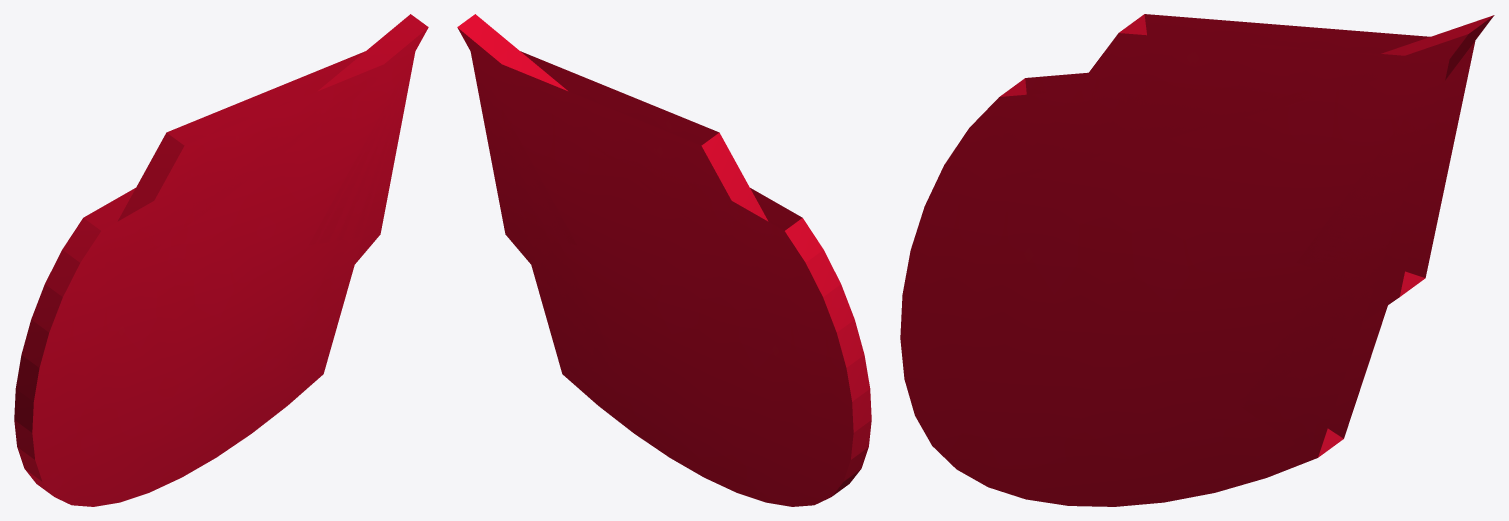
Rendered from critical.fbx.
3 renders of one model, left to right at view 1: azimuth 30°, elevation 25°; view 2: azimuth 150°, elevation 25°; view 3: azimuth 330°, elevation 25°, orthographic. The views are drawn at different scales.
Parts seen in each view (by area): view 1: critical; view 2: critical; view 3: critical.
Boxes of the visible parts, bbox=[...] form: critical: bbox=[14, 14, 428, 506]; critical: bbox=[457, 14, 871, 506]; critical: bbox=[900, 14, 1494, 506].
Size of the model in its own units: 173 by 167 by 13.7.
